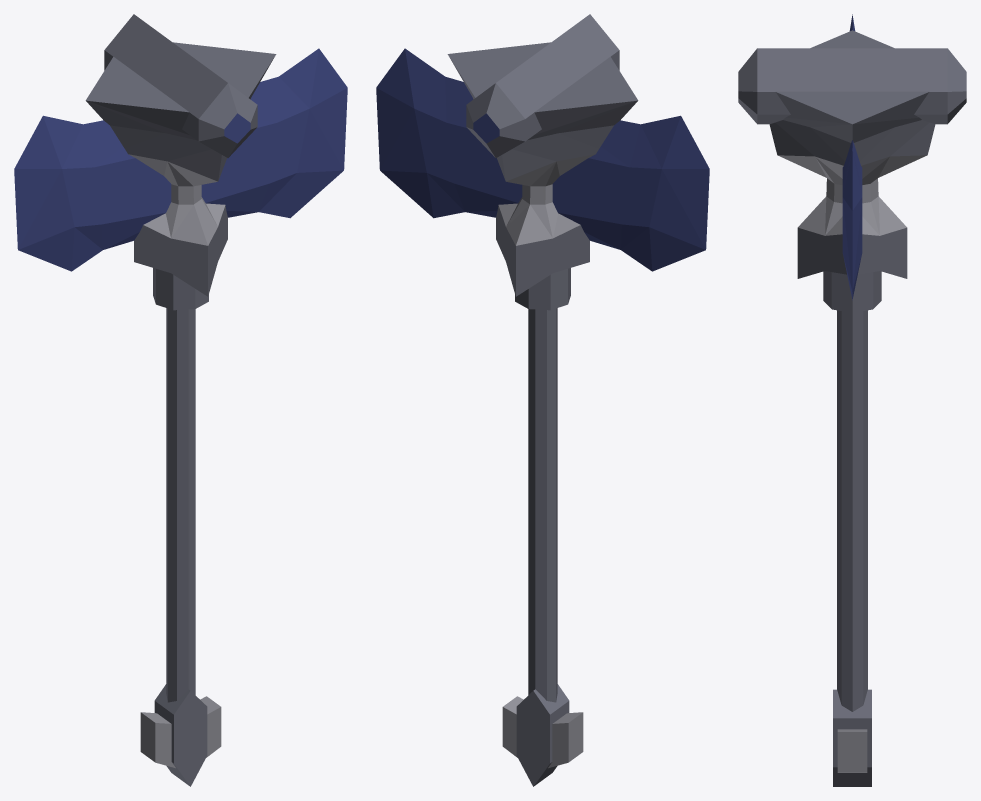
Rendered from hammer_12.glb.
3 renders of one model, left to right at view 1: azimuth 30°, elevation 25°; view 2: azimuth 150°, elevation 25°; view 3: azimuth 270°, elevation 25°, orthographic.
Parts seen in each view (by area): view 1: hammer_12; view 2: hammer_12; view 3: hammer_12.
Part boxes in pixels (x1,y1,x2,y2): hammer_12: [14, 14, 347, 786]; hammer_12: [376, 14, 709, 786]; hammer_12: [738, 14, 966, 786].
Size of the model in its own units: 0.4184 by 0.8764 by 0.2455.
1 material, 1 textured.
